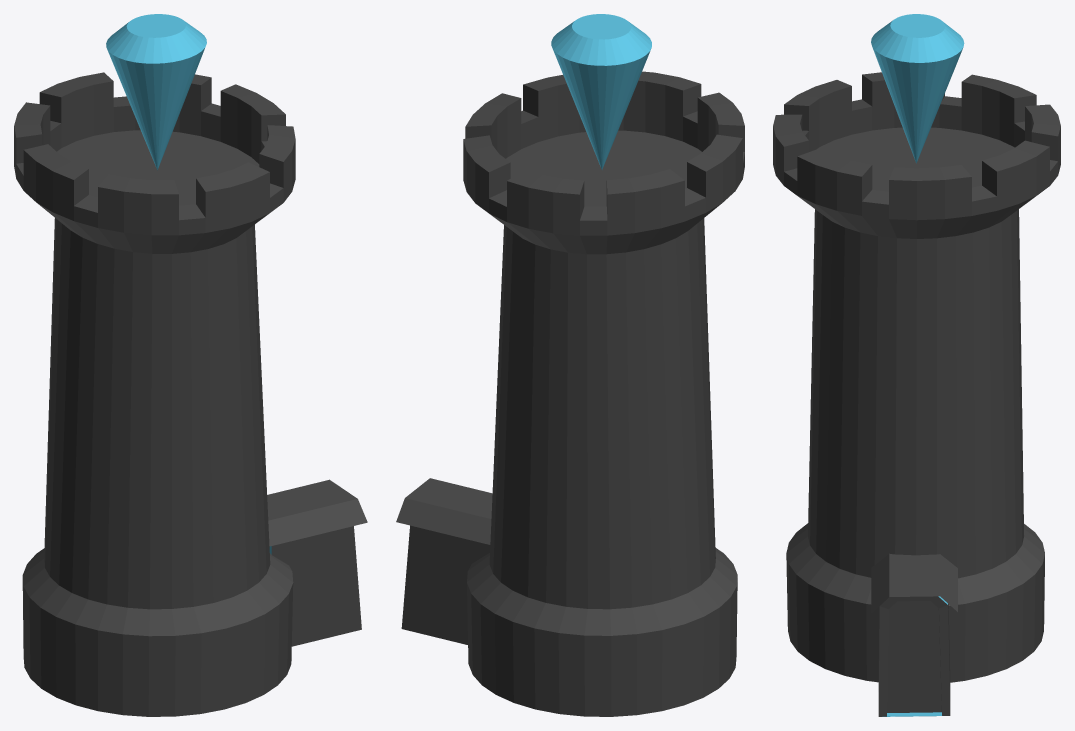
The model's file is vrai_tour.fbx.
3 views of the same model, side by side, from view 1: azimuth 30°, elevation 25°; view 2: azimuth 150°, elevation 25°; view 3: azimuth 270°, elevation 25° (orthographic). The views are drawn at different scales.
Parts seen in each view (by area): view 1: Cylinder; view 2: Cylinder; view 3: Cylinder.
Boxes of the visible parts, <box> form: Cylinder: <box>14,14,367,716</box>; Cylinder: <box>396,14,744,716</box>; Cylinder: <box>773,14,1060,716</box>.
Bounding box in the file's own units: 279 × 549 × 236.
